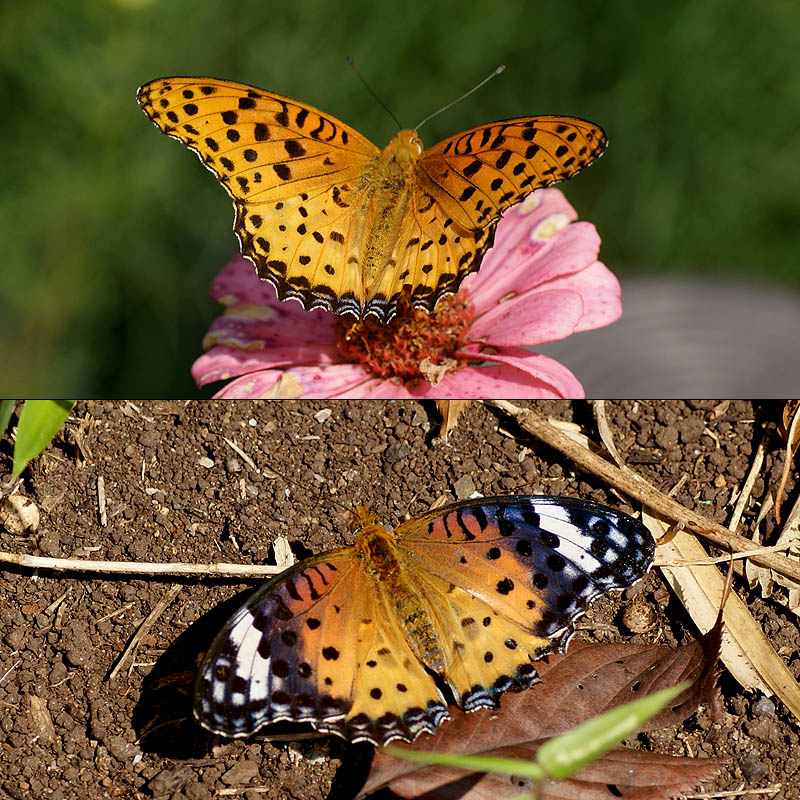Argyreus hyperbius: (183, 446, 660, 755), (127, 53, 610, 323)
butterfly: (185, 448, 662, 757), (129, 55, 612, 325)
